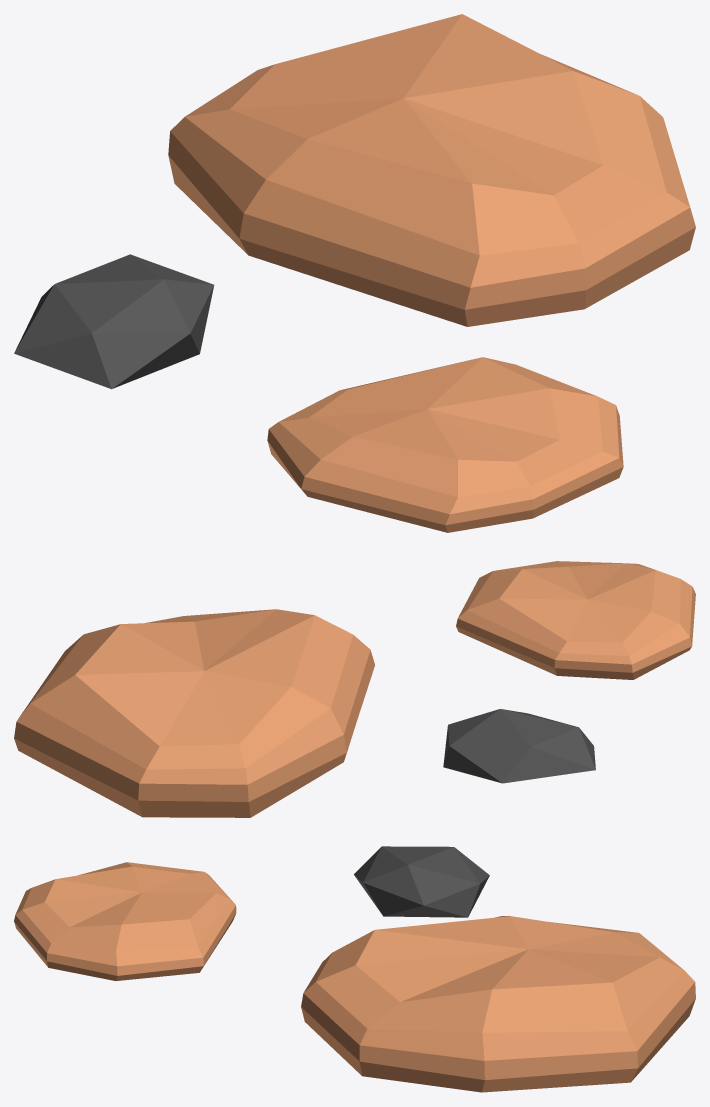
Rendered from SSJ_dirtyFloor2-C.fbx.
3 renders of one model, top to bottom at view 1: azimuth 30°, elevation 25°; view 2: azimuth 150°, elevation 25°; view 3: azimuth 270°, elevation 25°, orthographic. The views are drawn at different scales.
Visible parts, largest first — view 1: Sphere.004; view 2: Sphere.004; view 3: Sphere.004.
Boxes of the visible parts, left/top/right/bottom form: Sphere.004: left=14, top=14, right=695, bottom=532; Sphere.004: left=14, top=561, right=695, bottom=817; Sphere.004: left=14, top=846, right=695, bottom=1092.
Size of the model in its own units: 225 by 37.91 by 275.
